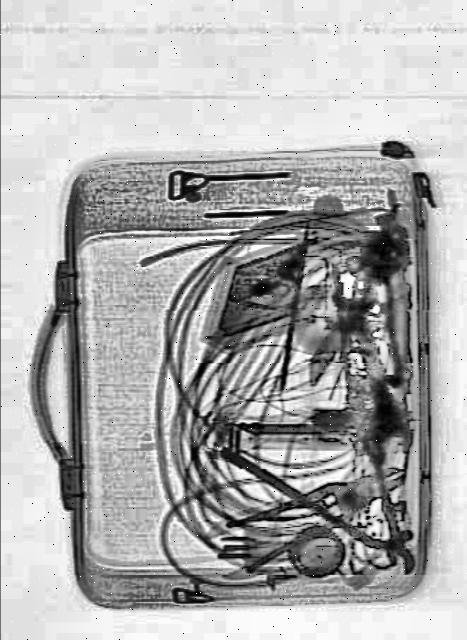Pliers: (224, 444, 410, 576)
Wrench: (324, 268, 418, 474)
